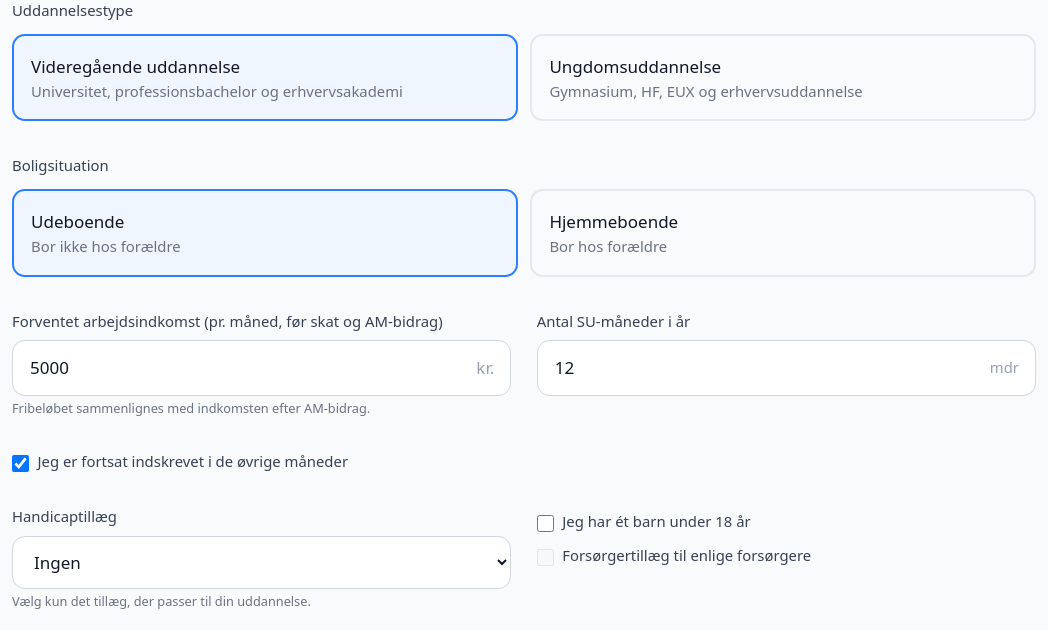
it: SUBeregner › kræver godkendelse før 18-19-årig udeboendesats
Click the button "Ungdomsuddannelse Gymnasium, HF, EUX og erhvervsuddannelse" at (635, 66), box [530, 34, 1036, 121]
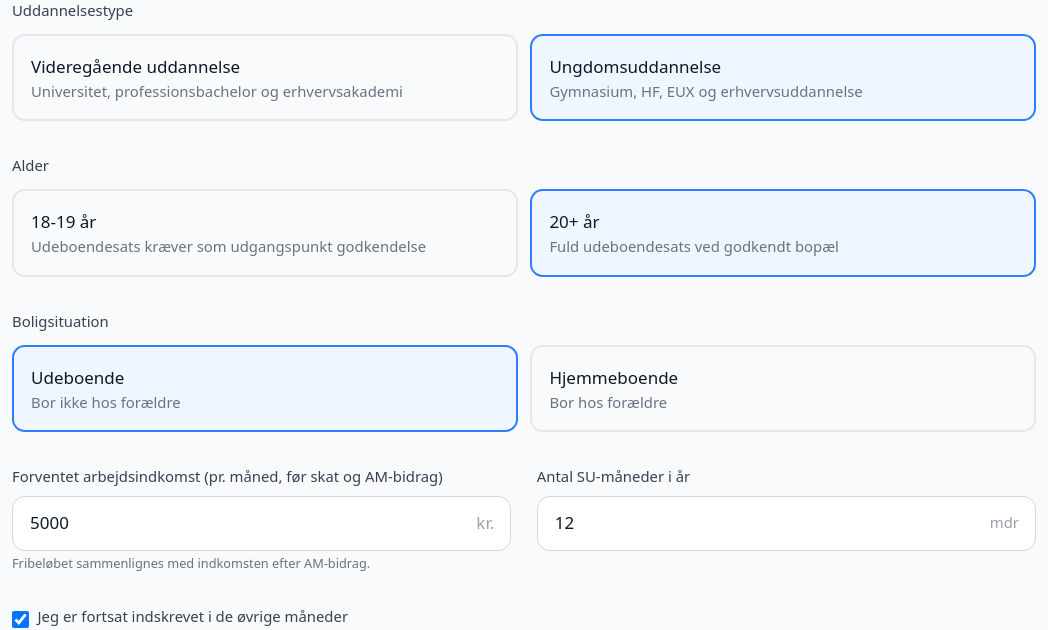
Click the button "18-19 år Udeboendesats kræver som udgangspunkt godkendelse" at (64, 222), box [12, 189, 518, 277]
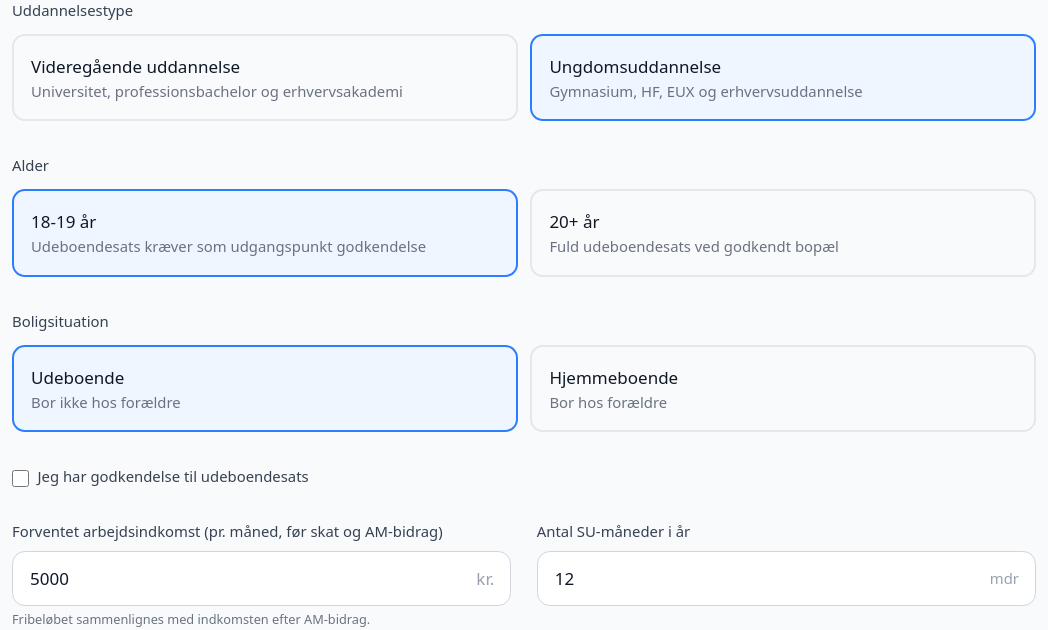
Click the checkbox labelled "Jeg har godkendelse til udeboendesats" at (20, 479), box [12, 470, 29, 487]
(page scrolled)
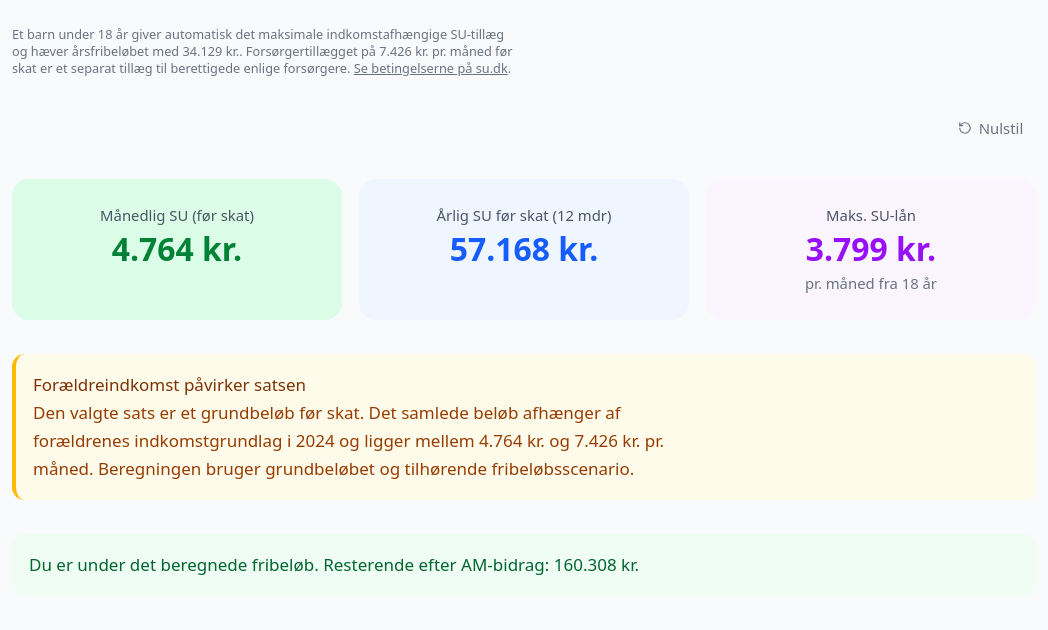
Now the text "Forældreindkomst påvirker satsen" is shown, box [33, 373, 306, 396]
